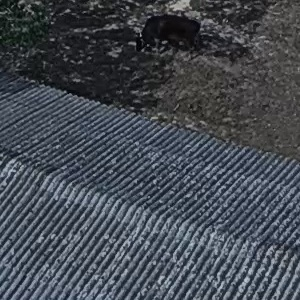cow: (129, 8, 211, 56)
